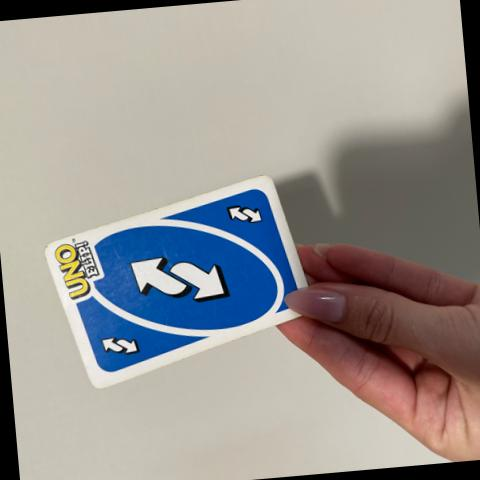lbluerevers-20: (84, 310, 155, 371)
